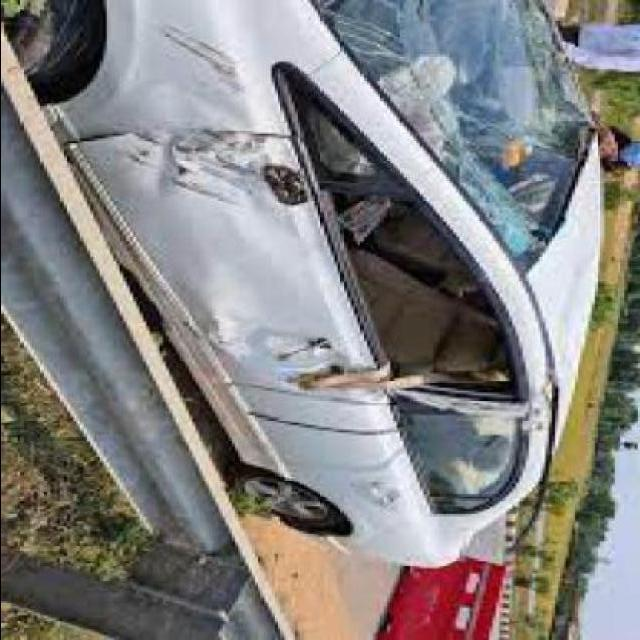Front-Windscreen-Damage: (394, 3, 596, 257)
doorouter-scratch: (64, 129, 310, 241), (170, 296, 372, 401)
